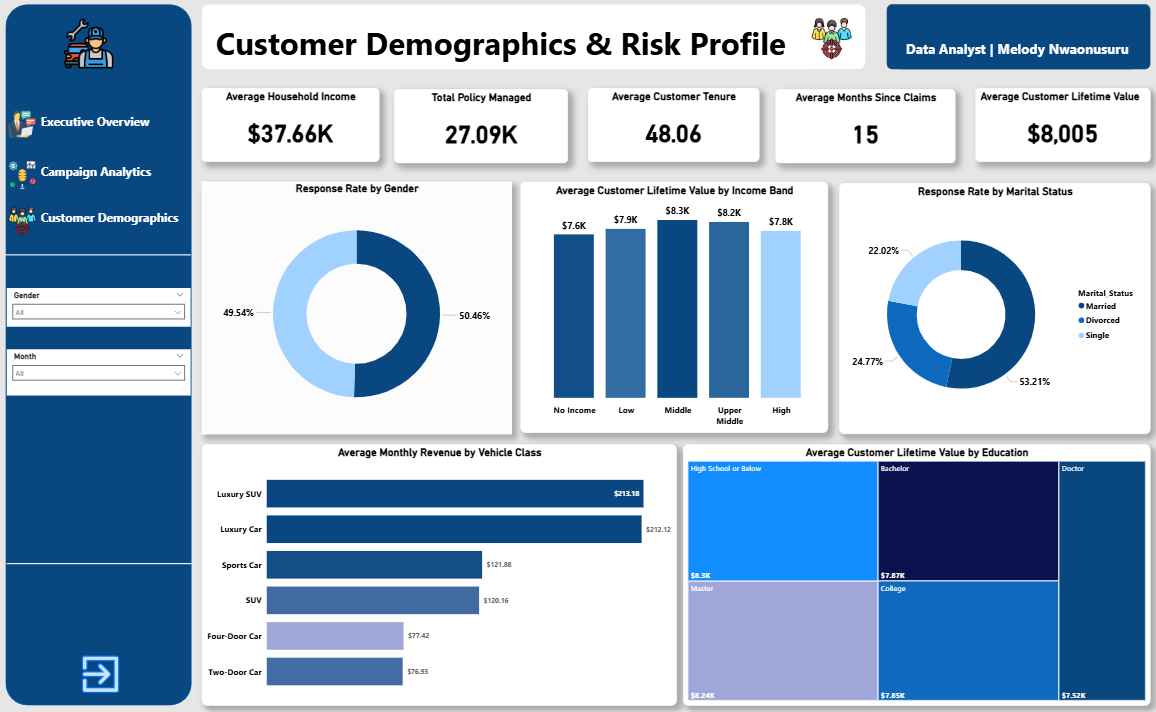

This screenshot's page, from the dashboard's own definition file:
{"tool":"powerbi","page":{"name":"Customer Demographics & Risk Profile","canvas":[2100,1300],"ordinal":2},"visuals":[{"type":"card","title":"Average Customer Lifetime Value","fields":{"Values":["Measures Table.Average CLV"]},"box":[1765.4,170.7,314.4,132.5],"z":0},{"type":"shape","box":[22.5,20.2,334.7,1260],"z":1000},{"type":"shape","box":[375.1,20.2,1192.6,116.8],"z":2000},{"type":"textbox","box":[395.3,44.9,1057.9,92.1],"z":3000},{"type":"shape","box":[1605.9,20.2,473.9,116.8],"z":4000},{"type":"image","box":[114.5,44.9,114.5,92.1],"z":5000},{"type":"card","title":"Average Customer Tenure","fields":{"Values":["Measures Table.Average Customer Tenure"]},"box":[1069.1,170.7,307.7,132.5],"z":6000},{"type":"card","title":"Average Months Since Claims","fields":{"Values":["Measures Table.Average Months Since Claims"]},"box":[1406,172.9,323.4,132.5],"z":7000},{"type":"card","title":"Total Policy Managed","fields":{"Values":["Measures Table.Total Policy Managed"]},"box":[721,172.9,312.2,132.5],"z":8000},{"type":"card","title":"Average Household Income","fields":{"Values":["Measures Table.Average Household Income"]},"box":[375.1,170.7,318.9,132.5],"z":9000},{"type":"donutChart","title":"Response Rate by Gender","fields":{"Category":["Marketing_Clean.Gender"],"Y":["Measures Table.Total Positive Response"]},"box":[375.1,339.2,557,453.7],"z":10000},{"type":"clusteredColumnChart","title":"Average Customer Lifetime Value by Income Band","fields":{"Y":["Measures Table.Average CLV"],"Category":["Marketing_Clean.Income Band"]},"box":[947.8,339.2,552.5,451.5],"z":11000},{"type":"donutChart","title":"Response Rate by Marital Status","fields":{"Category":["Marketing_Clean.Marital_Status"],"Y":["Measures Table.Total Positive Response"]},"box":[1520.6,341.4,559.3,451.5],"z":12000},{"type":"clusteredBarChart","title":"Average Monthly Revenue by Vehicle Class","fields":{"Category":["Marketing_Clean.Vehicle_Class"],"Y":["Measures Table.Average Monthly Revenue"]},"box":[375.1,810.8,853.5,469.4],"z":13000},{"type":"treemap","title":"Average Customer Lifetime Value by Education","fields":{"Group":["Marketing_Clean.Education"],"Values":["Measures Table.Average CLV"]},"box":[1239.8,810.8,840,469.4],"z":14000},{"type":"image","box":[1468.9,44.9,76.4,74.1],"z":15000},{"type":"slicer","fields":{"Values":["Marketing_Clean.Gender"]},"box":[24.7,530.1,330.2,69.6],"z":16000},{"type":"slicer","title":"Month","fields":{"Values":["DateTable.Month Name"]},"box":[24.7,640.1,330.2,83.1],"z":17000},{"type":"image","box":[157.2,1190.4,71.9,67.4],"z":18000},{"type":"shape","box":[24.7,876,332.4,298.7],"z":19000},{"type":"image","box":[24.7,384.1,56.2,51.7],"z":20000},{"type":"image","box":[24.7,301,56.2,51.7],"z":21000},{"type":"image","box":[22.5,211.1,58.4,49.4],"z":22000},{"type":"shape","box":[22.5,411,332.4,119],"z":23000},{"type":"textbox","box":[80.9,211.1,274,49.4],"z":24000},{"type":"textbox","box":[80.9,301,251.6,51.7],"z":25000},{"type":"textbox","box":[80.9,384.1,274,74.1],"z":26000},{"type":"textbox","box":[1632.9,78.6,415.5,58.4],"z":27000}]}

Visuals, with their boxes in screenshot pixels (x1, y1, x2, y2), scaled from the page's 2100x1300 canvas onto the 1156x712 screenshot:
"Average Customer Lifetime Value" card: (972,93,1145,166)
shape: (12,11,197,701)
shape: (206,11,863,75)
textbox: (218,25,800,75)
shape: (884,11,1145,75)
image: (63,25,126,75)
"Average Customer Tenure" card: (589,93,758,166)
"Average Months Since Claims" card: (774,95,952,167)
"Total Policy Managed" card: (397,95,569,167)
"Average Household Income" card: (206,93,382,166)
"Response Rate by Gender" donutChart: (206,186,513,434)
"Average Customer Lifetime Value by Income Band" clusteredColumnChart: (522,186,826,433)
"Response Rate by Marital Status" donutChart: (837,187,1145,434)
"Average Monthly Revenue by Vehicle Class" clusteredBarChart: (206,444,676,701)
"Average Customer Lifetime Value by Education" treemap: (682,444,1145,701)
image: (809,25,851,65)
slicer - Marketing_Clean.Gender: (14,290,195,328)
"Month" slicer: (14,351,195,396)
image: (87,652,126,689)
shape: (14,480,197,643)
image: (14,210,45,239)
image: (14,165,45,193)
image: (12,116,45,143)
shape: (12,225,195,290)
textbox: (45,116,195,143)
textbox: (45,165,183,193)
textbox: (45,210,195,251)
textbox: (899,43,1128,75)
